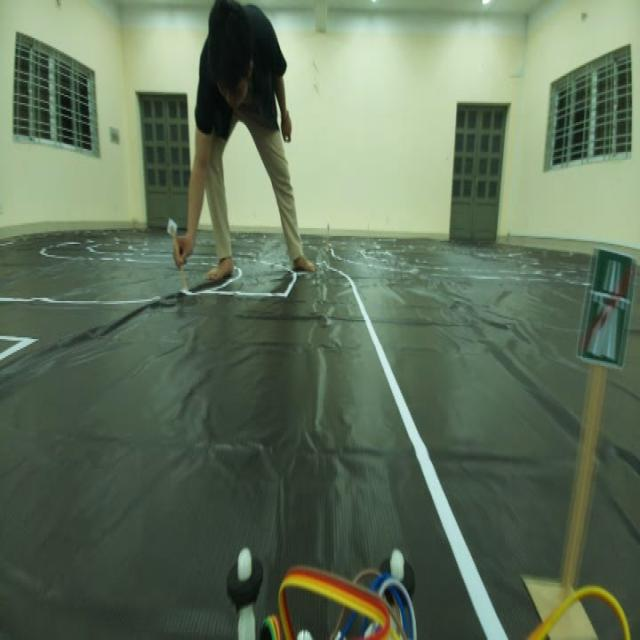highway_exit: (580, 242, 638, 384)
